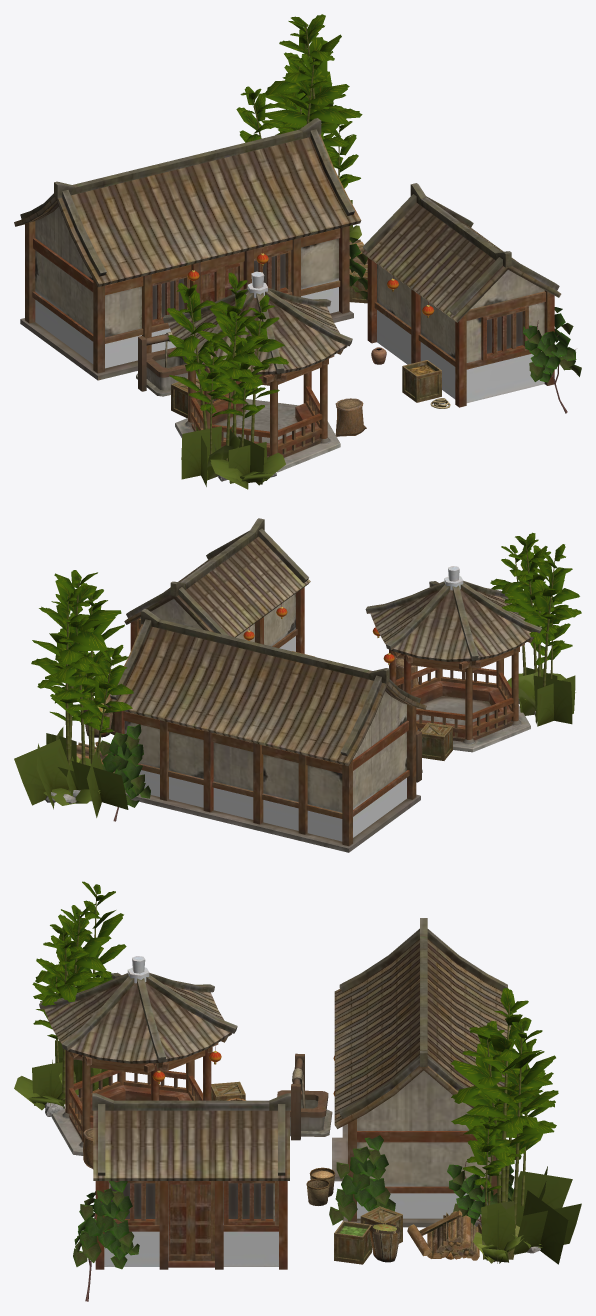
The model's file is 104-villagecenter.glb.
3 views of the same model, one above another, from view 1: azimuth 30°, elevation 25°; view 2: azimuth 150°, elevation 25°; view 3: azimuth 270°, elevation 25° (orthographic). The views are drawn at different scales.
Bounding box in the file's own units: 9.55 × 6.06 × 11.14.
Materials: 22 (21 with a texture image).
